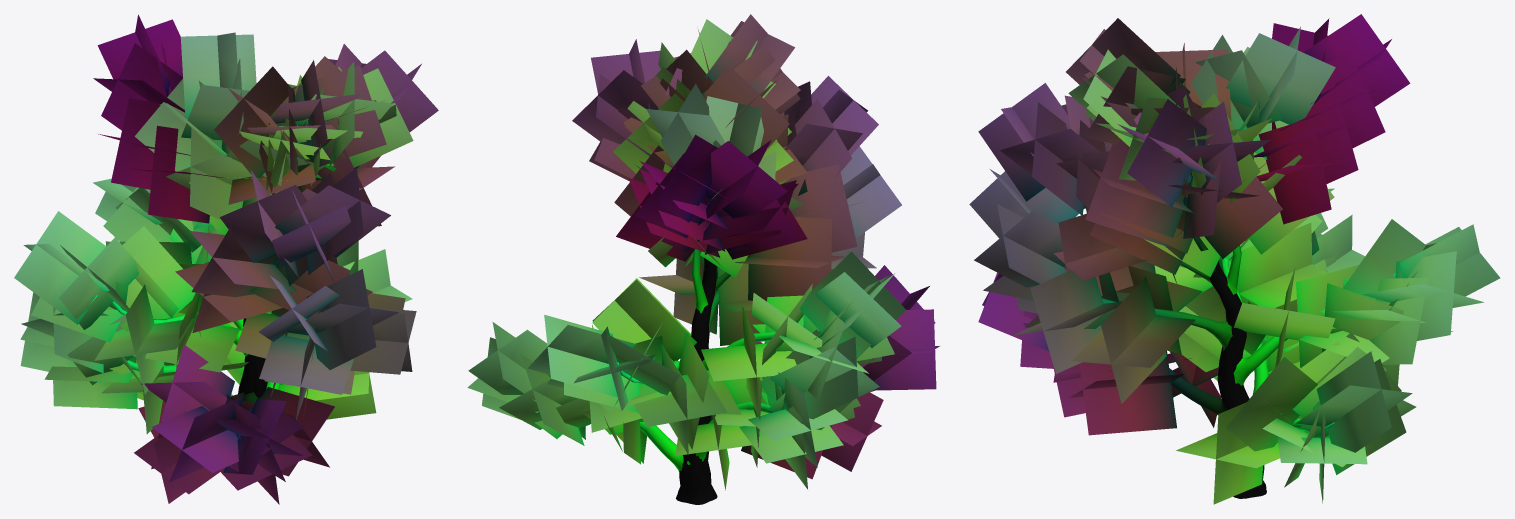
Rendered from URP_P11_Tree_7_LOD_0.fbx.
3 renders of one model, left to right at view 1: azimuth 30°, elevation 25°; view 2: azimuth 150°, elevation 25°; view 3: azimuth 270°, elevation 25°, orthographic. The views are drawn at different scales.
Visible parts, largest first — view 1: Tree_7_LOD_0; view 2: Tree_7_LOD_0; view 3: Tree_7_LOD_0.
Part boxes in pixels (x1,y1,x2,y2): Tree_7_LOD_0: (14,14,438,504); Tree_7_LOD_0: (467,14,939,504); Tree_7_LOD_0: (969,14,1500,504).
Bounding box in the file's own units: 586 × 622 × 632.
